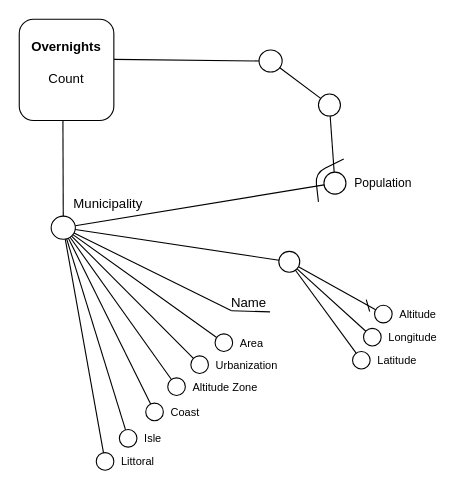
Some shapes in this 457 by 490 pixel diagram are drawn without their labels. The box of each missing label's shape, as (x1, y1, x2, y2) in pixels:
Location: (278, 250, 300, 272)
Month: (258, 49, 282, 72)
Year: (317, 93, 340, 116)
